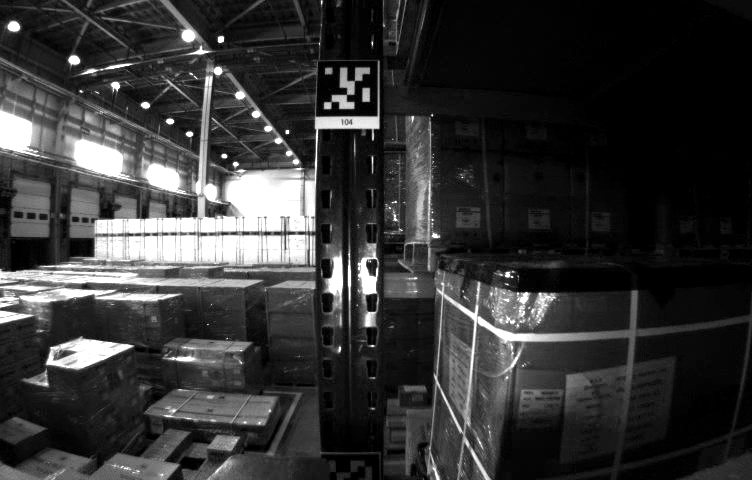True Barcode: (520, 388, 559, 429)
